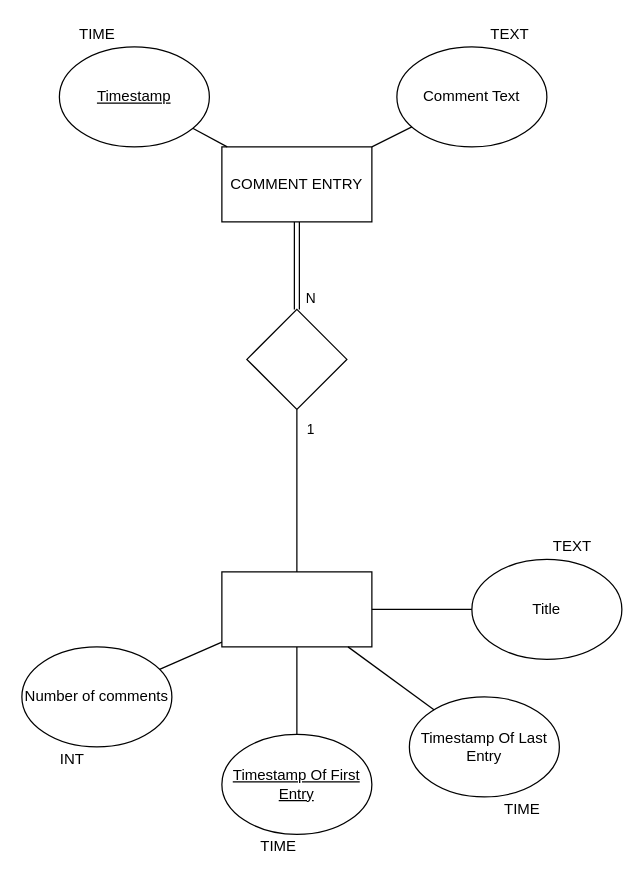
Image size: 644x880. Some labels were removed from this diagram. Here are the shapes that lost their labels. From the top down, the centre of each, then its label:
the point at 296,358: HAS
the point at 296,609: COMMENT THREAD
